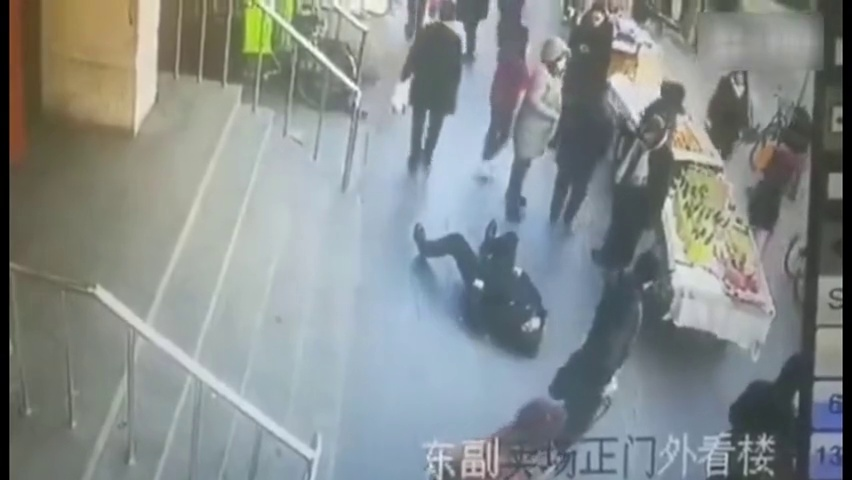fall: (413, 209, 557, 353)
nofall: (557, 260, 673, 429), (719, 342, 811, 474), (397, 8, 466, 177), (510, 37, 564, 215), (606, 109, 666, 263), (743, 114, 807, 244), (556, 83, 611, 234), (478, 28, 525, 182), (703, 63, 750, 180), (564, 1, 619, 81)
